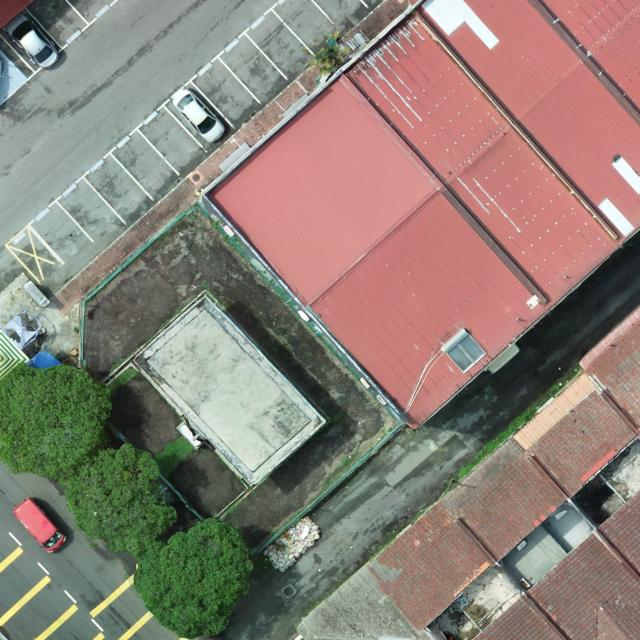tree: (131, 517, 256, 638), (59, 441, 182, 560), (0, 361, 116, 476), (306, 29, 350, 78)
